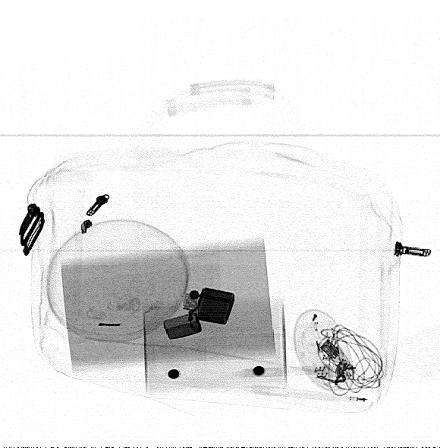Lighter: (163, 287, 235, 341)
